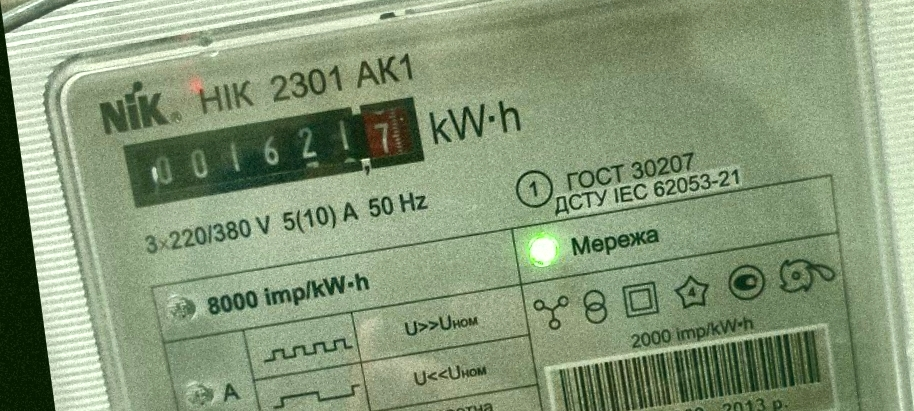0: (185, 143, 212, 183), (151, 150, 175, 186)
1: (334, 114, 353, 153), (225, 137, 243, 174)
2: (295, 123, 320, 161)
6: (258, 132, 282, 168)
7: (370, 118, 394, 156)
screen: (116, 92, 432, 213)
